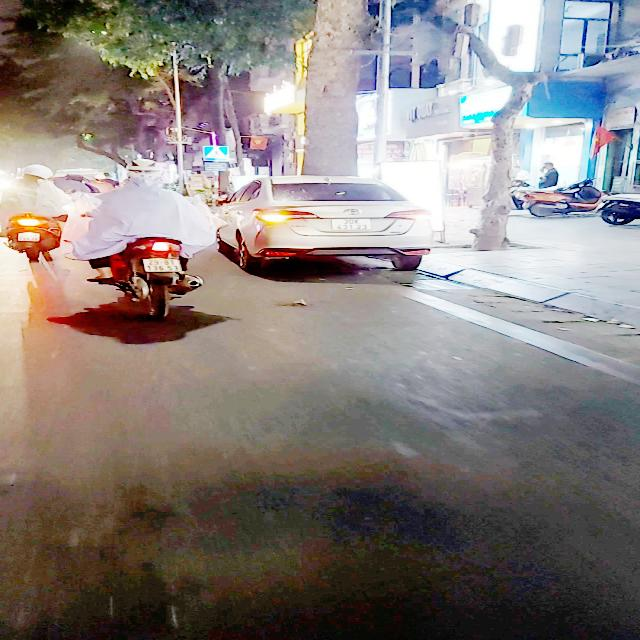license_plate: (143, 260, 184, 273), (332, 219, 374, 231)
